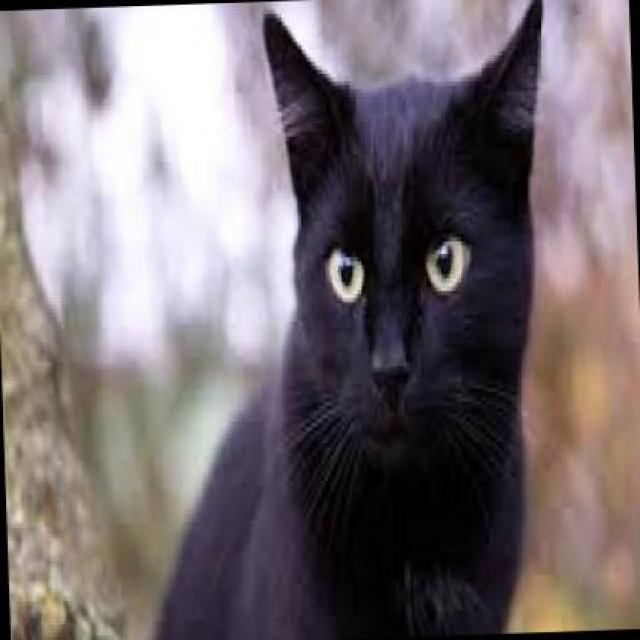animals: (181, 0, 573, 638)
